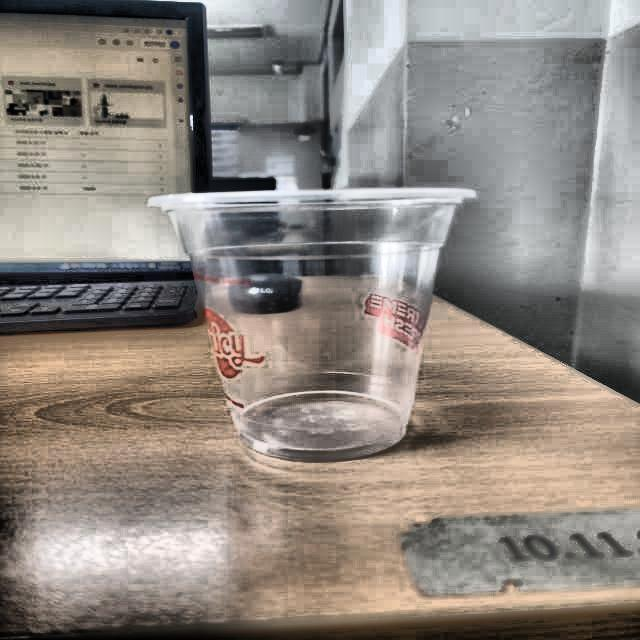plastic cup: (147, 186, 480, 461)
